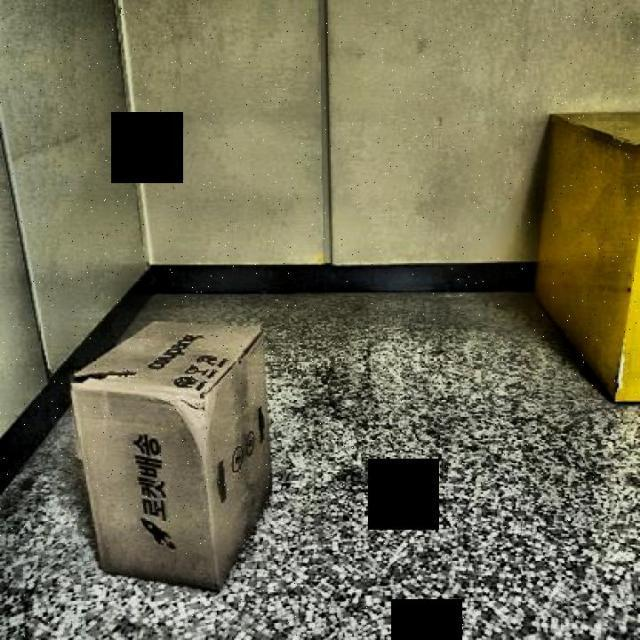box: (50, 308, 304, 616)
